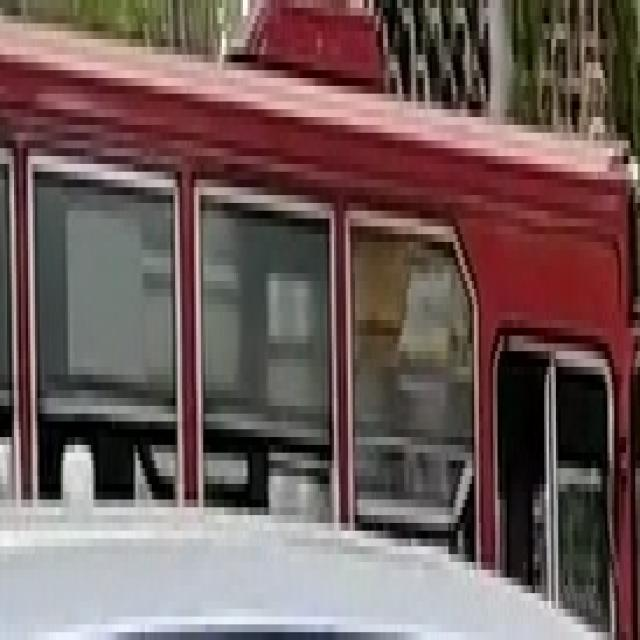door: (491, 328, 616, 632)
tyre: (0, 0, 638, 632)
